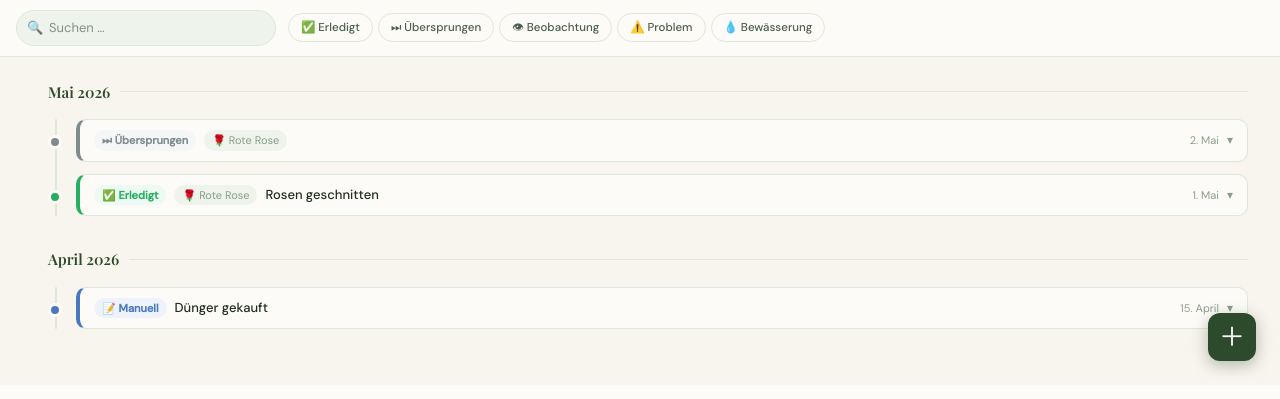
Test: JournalView — search (AC #4) › filters entries by title
Step 1. Type "Dünger" into the field with test id "journal-search" → (146,28), box [16,10,276,46]
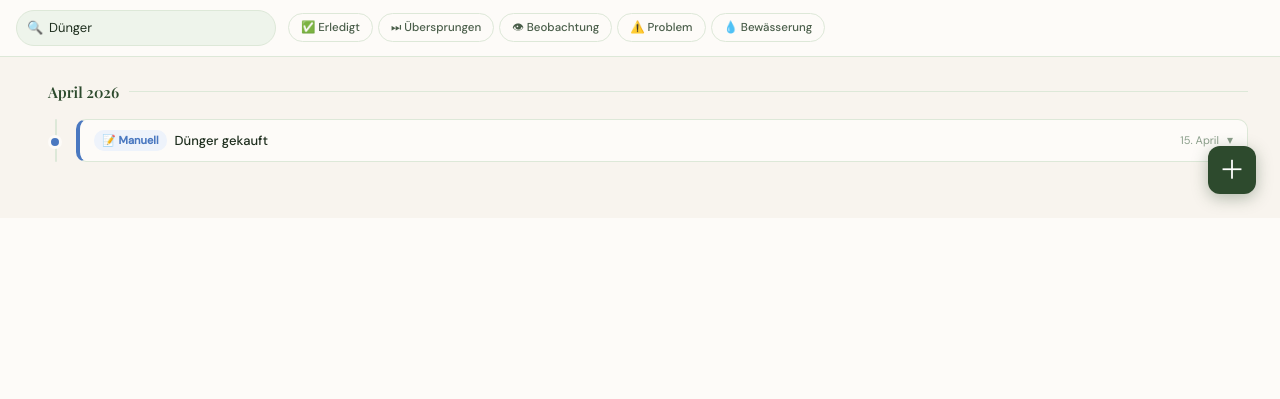
Expected: the text "Dünger gekauft" is shown, [175,132,268,148]
Now the number of elements with test id "journal-entry" is 1, box [76,119,1248,162]
